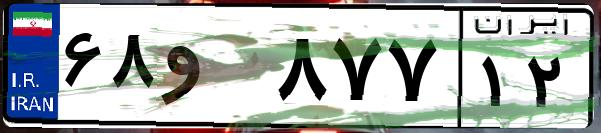1: (475, 38, 525, 113)
2: (525, 38, 570, 115)
6: (57, 26, 110, 100)
7: (385, 28, 445, 110), (330, 28, 385, 110)
8: (270, 28, 330, 110), (110, 28, 158, 98)
و: (158, 20, 270, 120)
